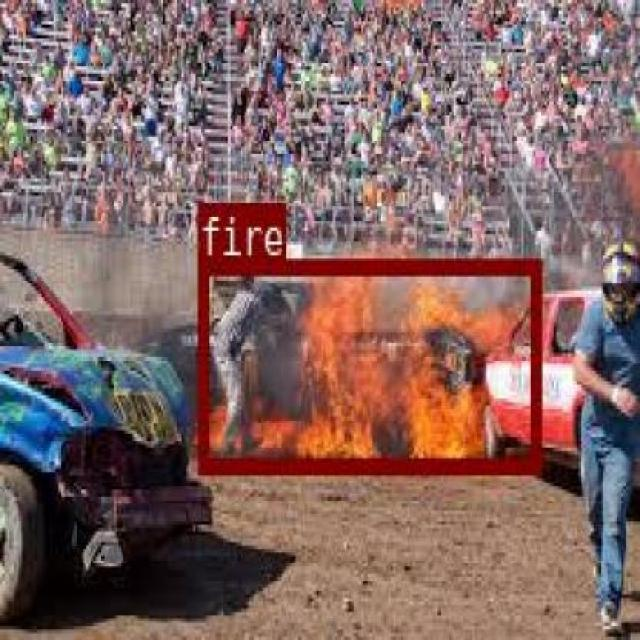Fire: (196, 256, 539, 472)
